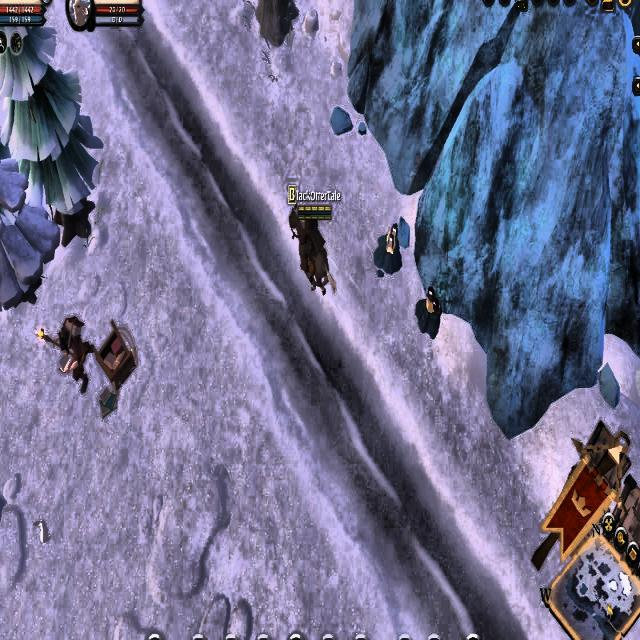copperore: (371, 221, 403, 271), (411, 288, 443, 338)
